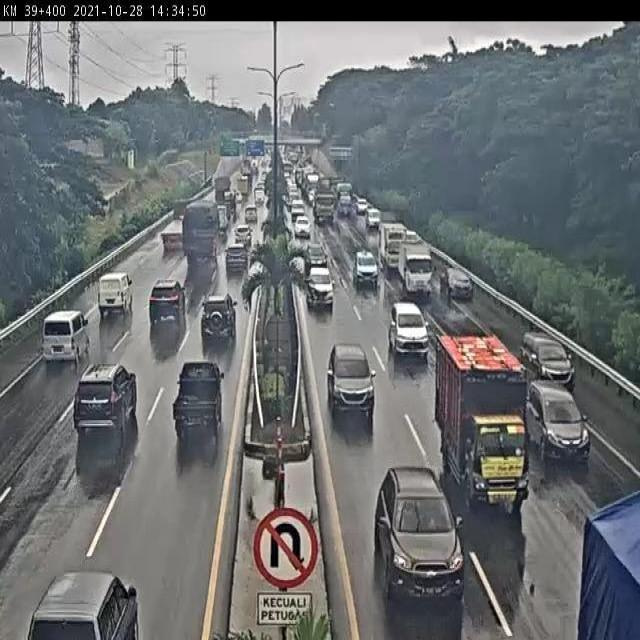big truck: (182, 202, 229, 282), (314, 182, 336, 226)
car: (365, 461, 471, 619), (29, 557, 166, 640), (168, 362, 236, 446), (73, 356, 138, 443), (321, 340, 386, 423), (529, 388, 592, 473), (521, 323, 584, 389), (388, 303, 435, 372), (42, 308, 93, 371), (197, 289, 242, 348), (91, 268, 137, 317), (149, 280, 188, 333), (302, 267, 343, 316), (351, 245, 387, 296), (441, 264, 480, 308), (225, 237, 254, 291), (290, 213, 315, 246), (305, 244, 329, 272), (233, 222, 255, 250), (243, 203, 264, 228), (365, 205, 384, 232), (355, 192, 368, 216)
small truck: (434, 336, 533, 517), (575, 484, 640, 640), (577, 484, 640, 640), (398, 233, 436, 304), (158, 198, 187, 254), (381, 225, 407, 271)
